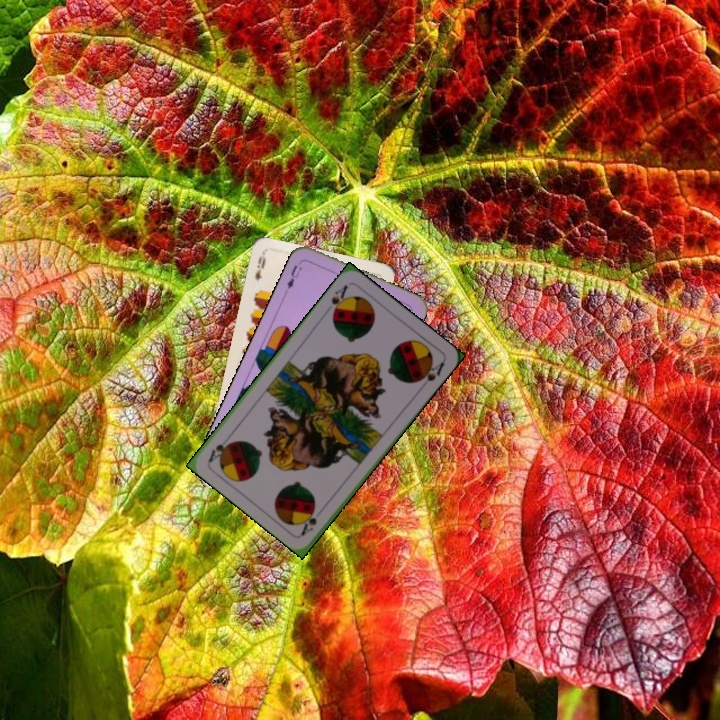E9: (251, 250, 268, 283)
EU: (280, 261, 304, 295)
SA: (327, 281, 351, 319), (297, 505, 319, 538)
